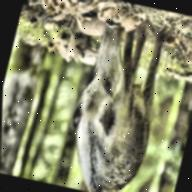boar: (55, 14, 177, 192)
